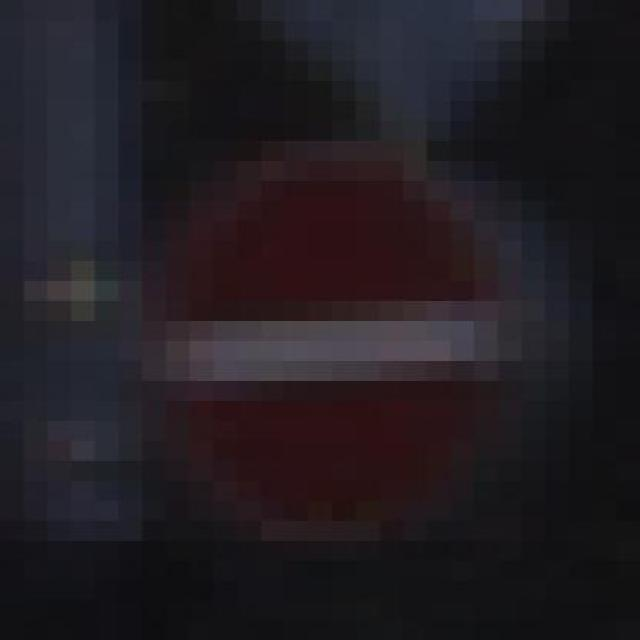No Entry: (48, 120, 569, 540)
